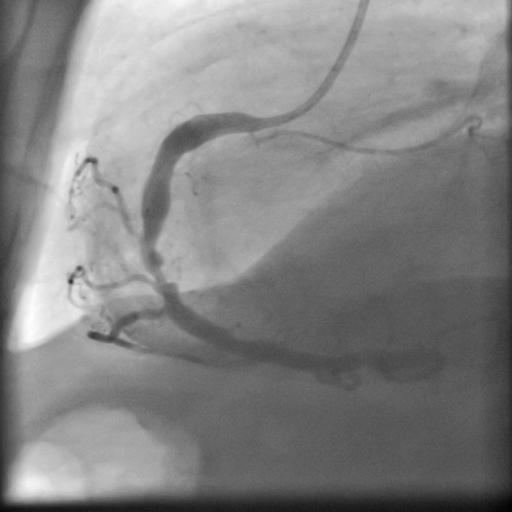Stenosis: (142, 248, 178, 296)
